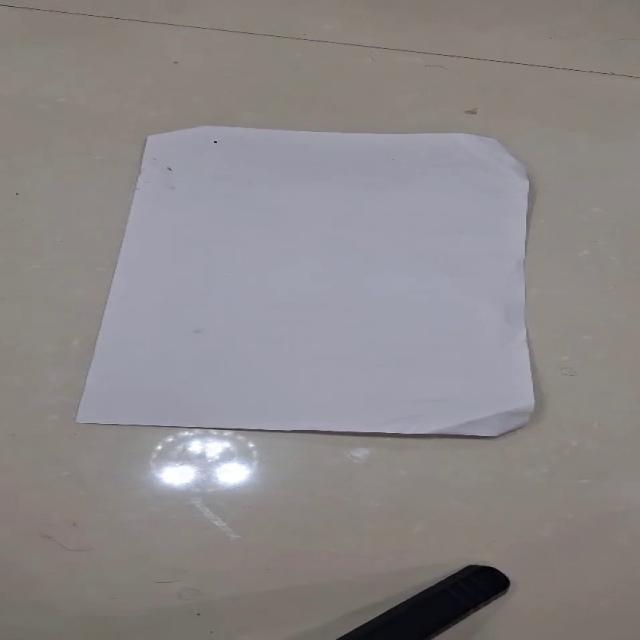paper: (73, 125, 536, 438)
